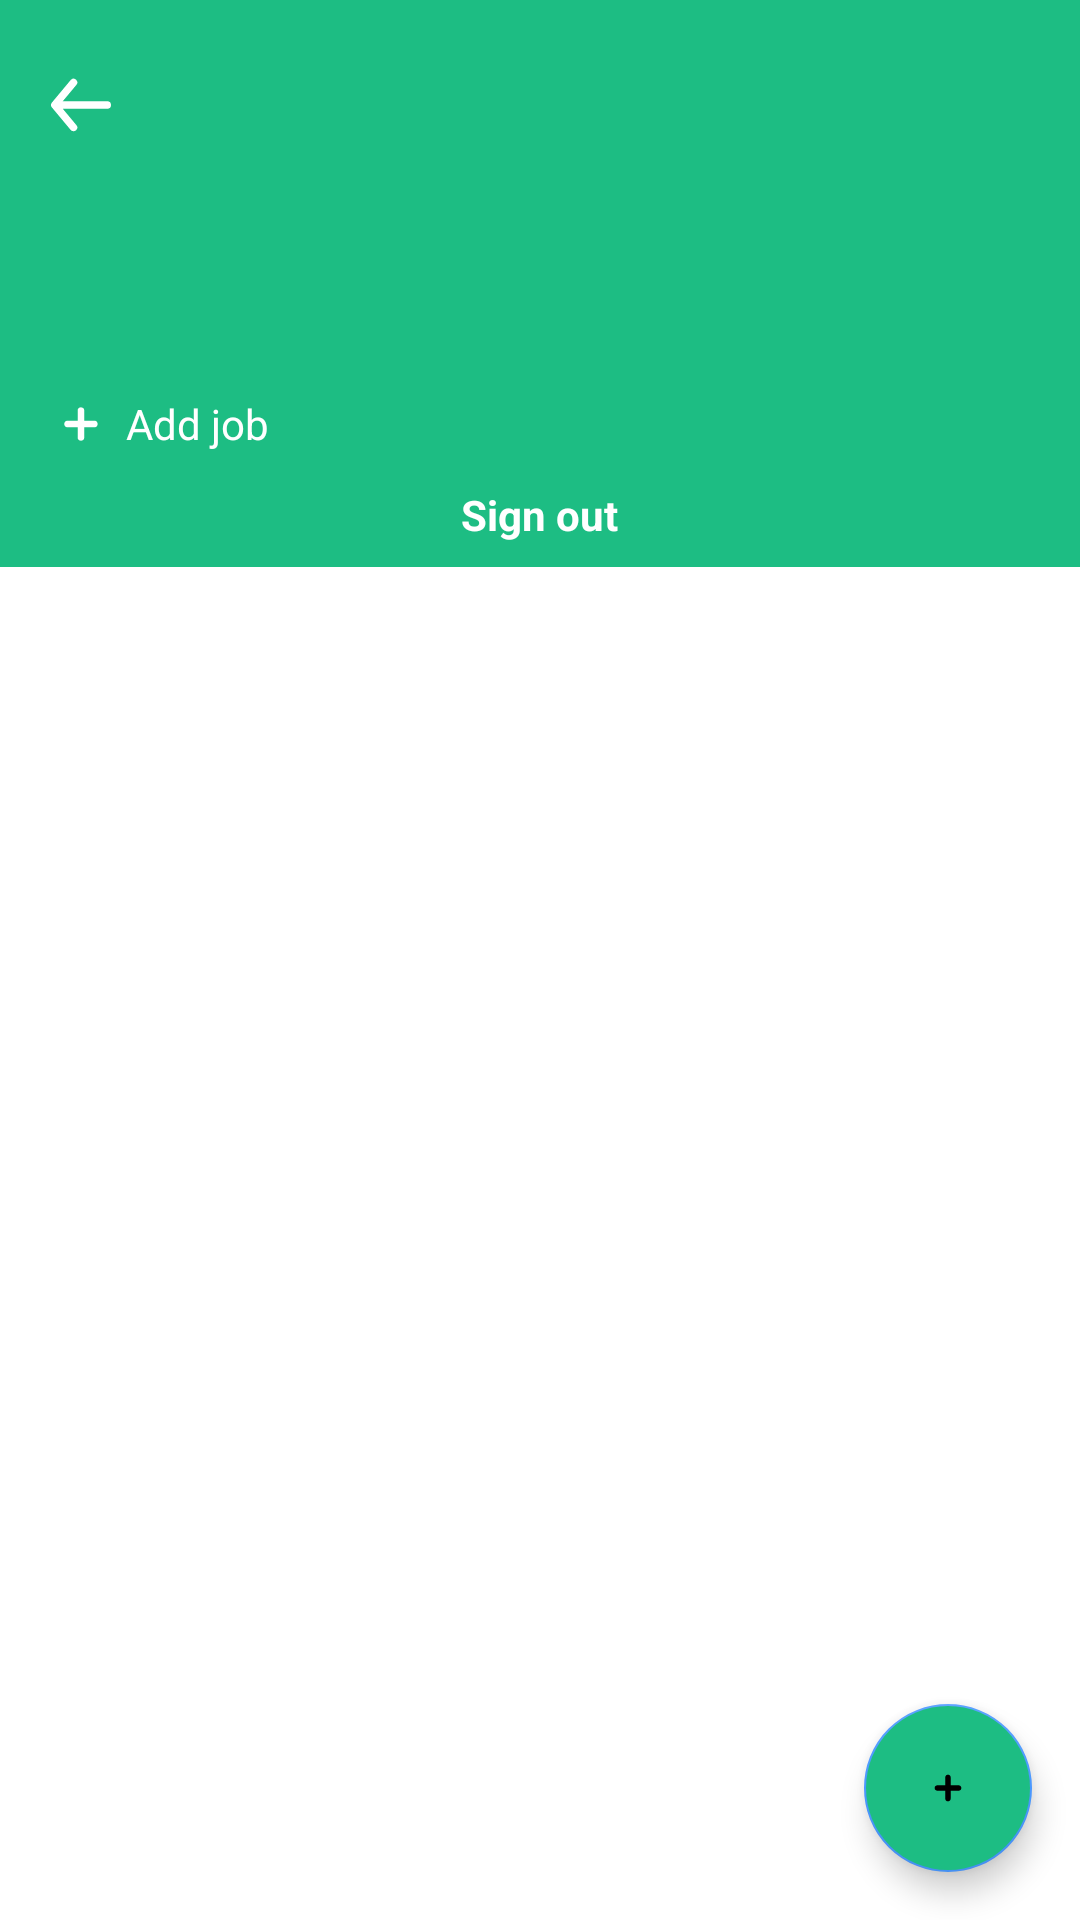

Where to tap for icons on this 1080 × 1920 app screen, as (x,y):
back: (81,105)
